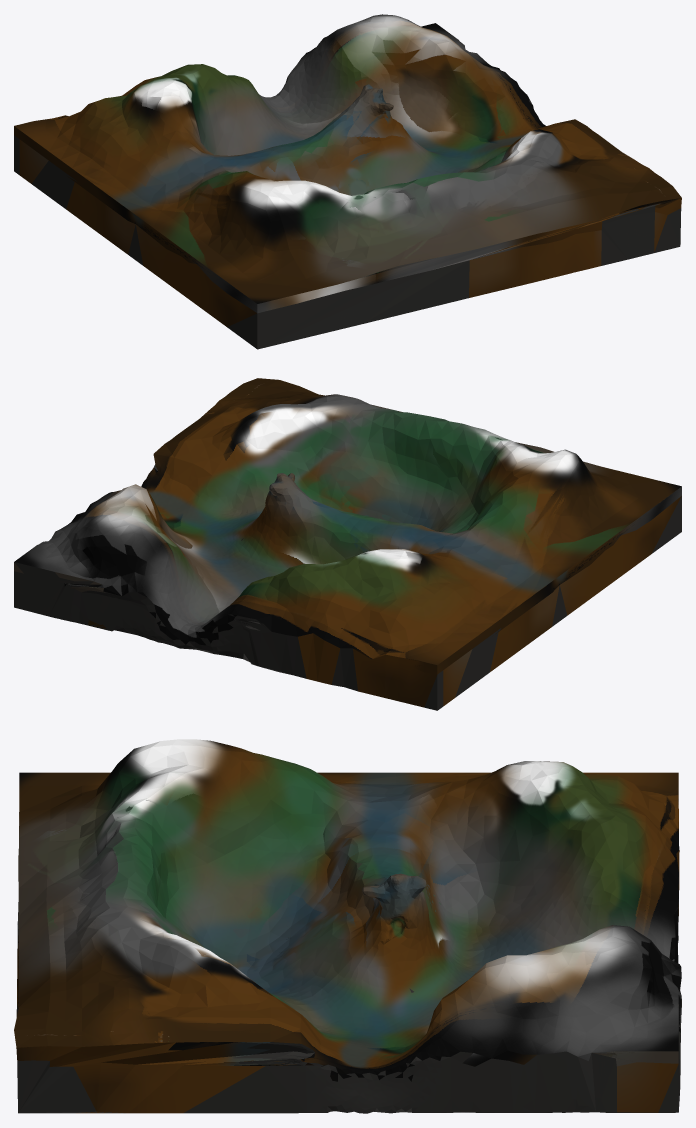
File: Isla.glb
The picture shows the model from 3 angles, top to bottom: view 1: azimuth 30°, elevation 25°; view 2: azimuth 150°, elevation 25°; view 3: azimuth 270°, elevation 25°; orthographic projection. The views are drawn at different scales.
Visible parts, largest first — view 1: Cube; view 2: Cube; view 3: Cube.
Part boxes in pixels (bbox=[...]): Cube: bbox=[14, 14, 681, 349]; Cube: bbox=[14, 378, 681, 710]; Cube: bbox=[14, 739, 681, 1113].
Bounding box in the file's own units: 1013 × 237 × 1013.
1 material, 1 textured.
